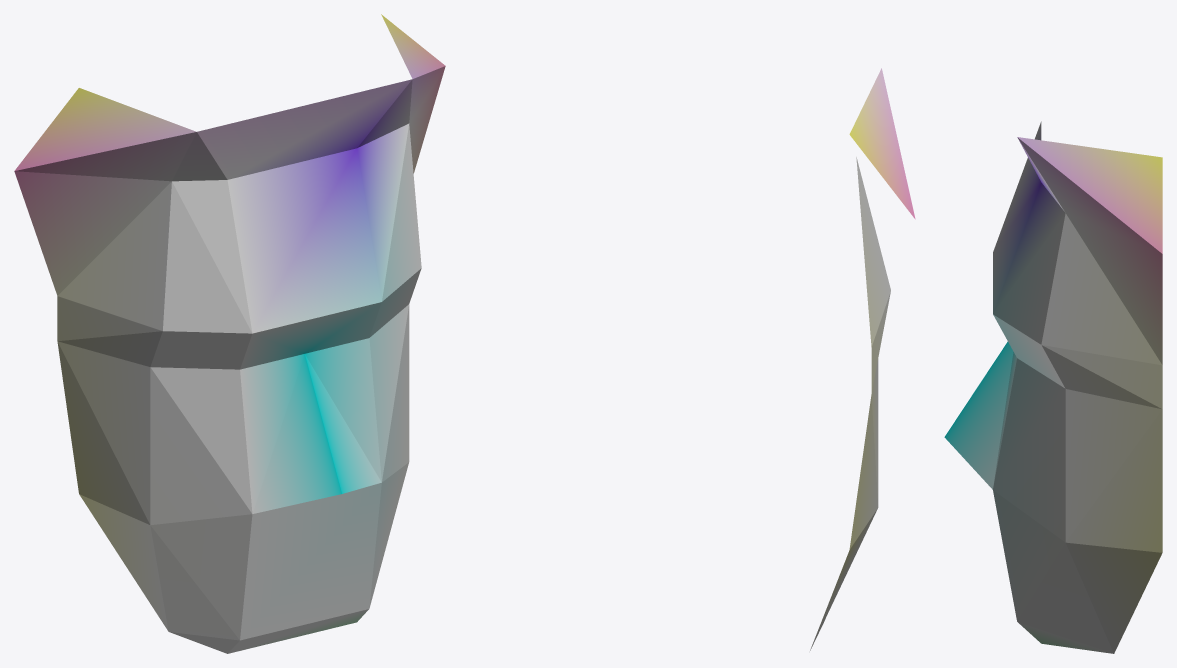
The picture shows the model from 3 angles, left to right: view 1: azimuth 30°, elevation 25°; view 2: azimuth 150°, elevation 25°; view 3: azimuth 270°, elevation 25°; orthographic projection. The views are drawn at different scales.
Parts seen in each view (by area): view 1: model_1412; view 2: model_1412; view 3: model_1412.
Boxes of the visible parts, left/top/right/bottom form: model_1412: left=14, top=14, right=445, bottom=653; model_1412: left=810, top=68, right=915, bottom=650; model_1412: left=944, top=121, right=1162, bottom=653.
Size of the model in its own units: 20 by 24 by 9.
